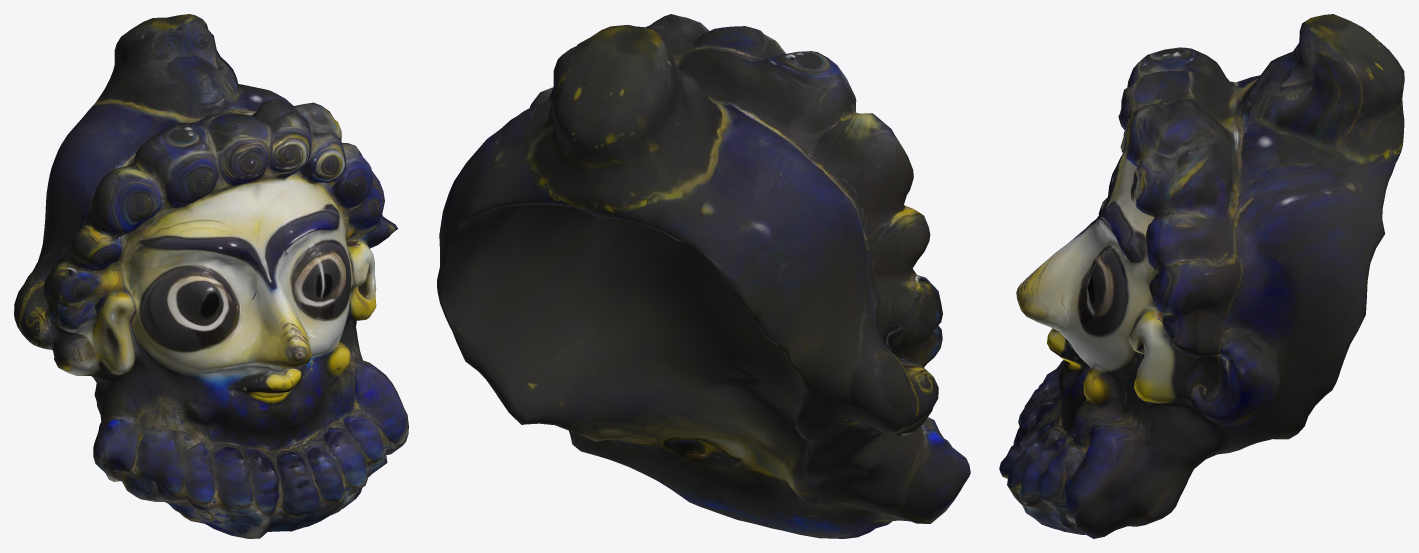
File: Ancient_Lapis_Head_0518223524_texture.fbx
3 views of the same model, side by side, from view 1: azimuth 30°, elevation 25°; view 2: azimuth 150°, elevation 25°; view 3: azimuth 270°, elevation 25° (orthographic). The views are drawn at different scales.
Visible parts, largest first — view 1: Mesh_0; view 2: Mesh_0; view 3: Mesh_0.
Boxes of the visible parts, x1=… form: Mesh_0: x1=14, y1=14, x2=408, y2=538; Mesh_0: x1=437, y1=14, x2=970, y2=538; Mesh_0: x1=999, y1=14, x2=1404, y2=538.
Bounding box in the file's own units: 167 × 200 × 148.
Materials: 1 (1 with a texture image).
